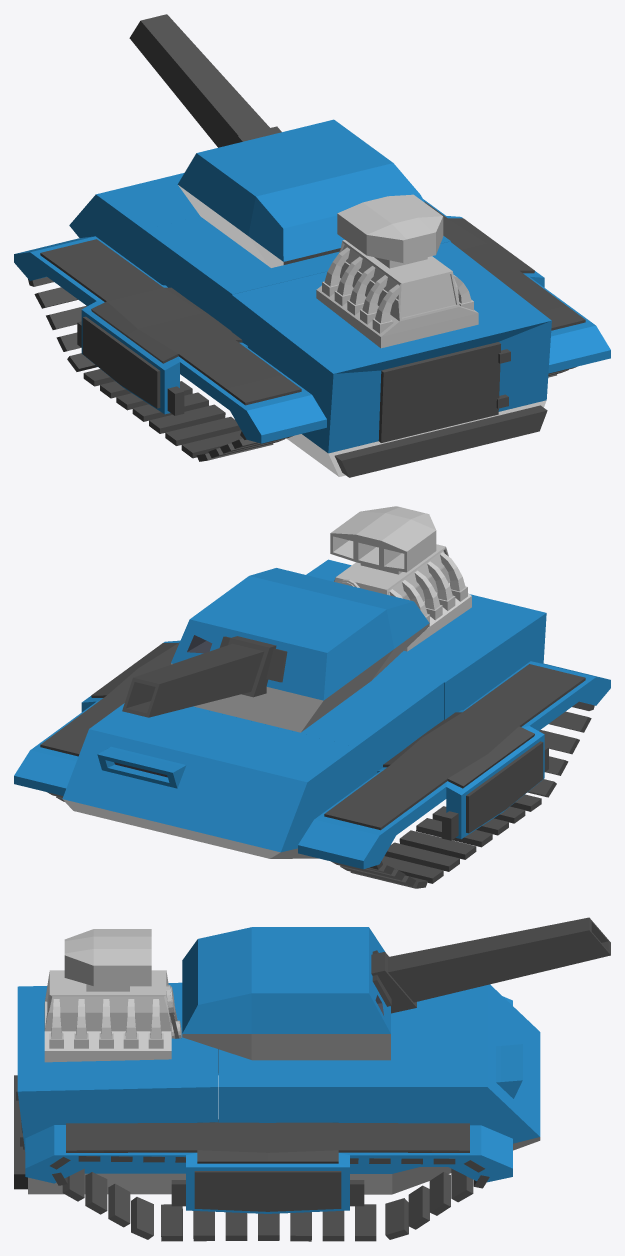
File: Tank.fbx
The picture shows the model from 3 angles, top to bottom: view 1: azimuth 30°, elevation 25°; view 2: azimuth 150°, elevation 25°; view 3: azimuth 270°, elevation 25°; orthographic projection.
Parts seen in each view (by area): view 1: 01 Tank Body Back 02_60, 01 Tank Body Track cover 02_75, 01 Tank Body turret 02_90, 03 engine 01_92, 01 Tank Body Front 02_59, 01 Tank Barrel 01_91, 01 Tank Body Tracks 02_73, 01 Tank Body Track cover 02_74; view 2: 01 Tank Body Front 02_59, 01 Tank Body Track cover 02_75, 01 Tank Body turret 02_90, 03 engine 01_92, 01 Tank Body Back 02_60, 01 Tank Body Tracks 02_73, 01 Tank Barrel 01_91, 01 Tank Body Track cover 02_74; view 3: 01 Tank Body Front 02_59, 01 Tank Body Track cover 02_74, 01 Tank Body turret 02_90, 01 Tank Body Back 02_60, 03 engine 01_92, 01 Tank Body Tracks 02_72, 01 Tank Barrel 01_91.
Part boxes in pixels (x1,y1,x2,y2): 01 Tank Body Back 02_60: (231,241,551,477); 01 Tank Body Track cover 02_75: (14,236,326,443); 01 Tank Body turret 02_90: (177,119,424,267); 03 engine 01_92: (316,194,478,348); 01 Tank Body Front 02_59: (69,173,450,330); 01 Tank Barrel 01_91: (129,14,281,147); 01 Tank Body Tracks 02_73: (28,277,292,461); 01 Tank Body Track cover 02_74: (423,199,610,373); 01 Tank Body Front 02_59: (62,668,443,858); 01 Tank Body Track cover 02_75: (298,661,610,869); 01 Tank Body turret 02_90: (171,568,429,732); 03 engine 01_92: (330,506,471,651); 01 Tank Body Back 02_60: (306,559,546,719); 01 Tank Body Tracks 02_73: (331,701,594,888); 01 Tank Barrel 01_91: (122,636,276,717); 01 Tank Body Track cover 02_74: (14,640,180,795); 01 Tank Body Front 02_59: (218,984,540,1194); 01 Tank Body Track cover 02_74: (25,1119,512,1213); 01 Tank Body turret 02_90: (182,927,391,1060); 01 Tank Body Back 02_60: (14,982,217,1194); 03 engine 01_92: (44,929,181,1062); 01 Tank Body Tracks 02_72: (50,1156,489,1241); 01 Tank Barrel 01_91: (371,917,610,1013).
Bounding box in the file's own units: 17.68 × 10.44 × 24.01.
